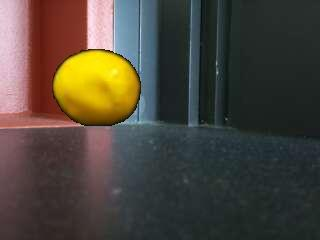Lemon: (50, 48, 142, 128)
